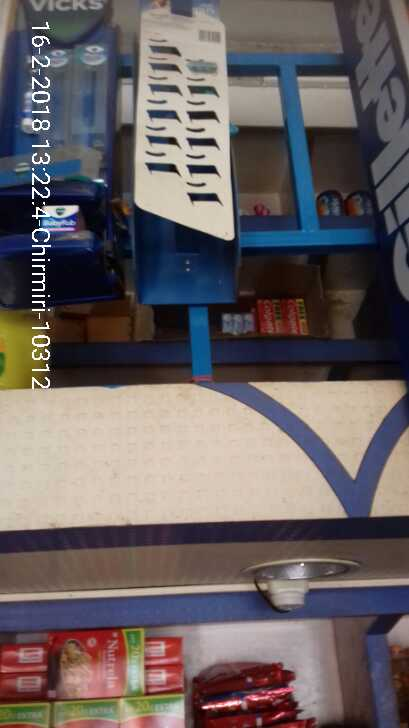reject: (199, 304, 240, 361)
